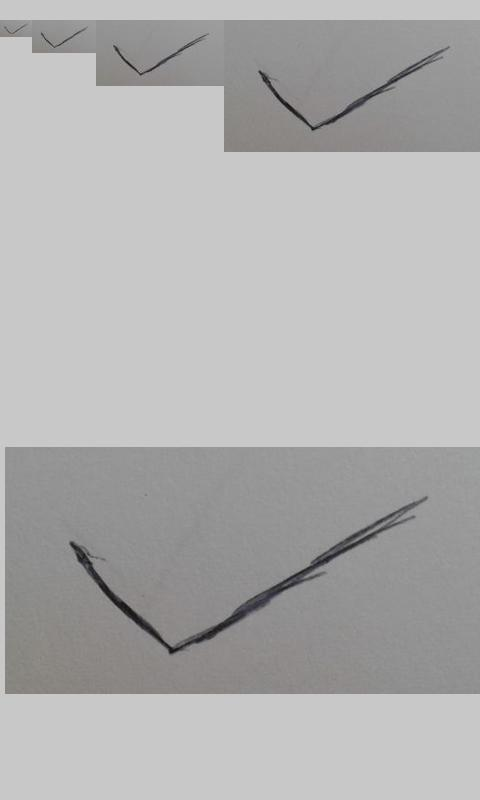check_box: (72, 498, 420, 656), (259, 46, 448, 132), (114, 34, 207, 76), (41, 27, 86, 49), (4, 24, 27, 35)
